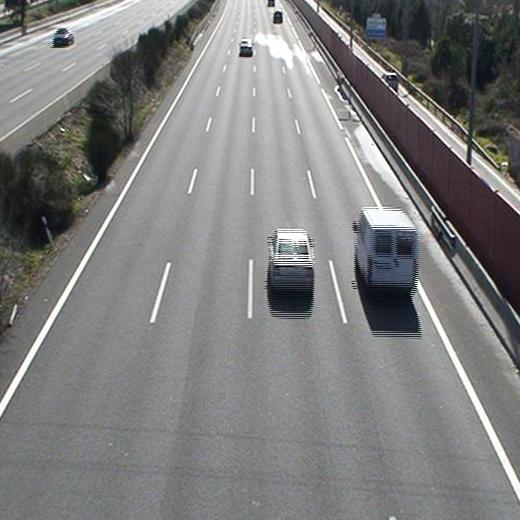car: (267, 228, 315, 297), (240, 39, 253, 56)
van: (353, 207, 419, 296)
